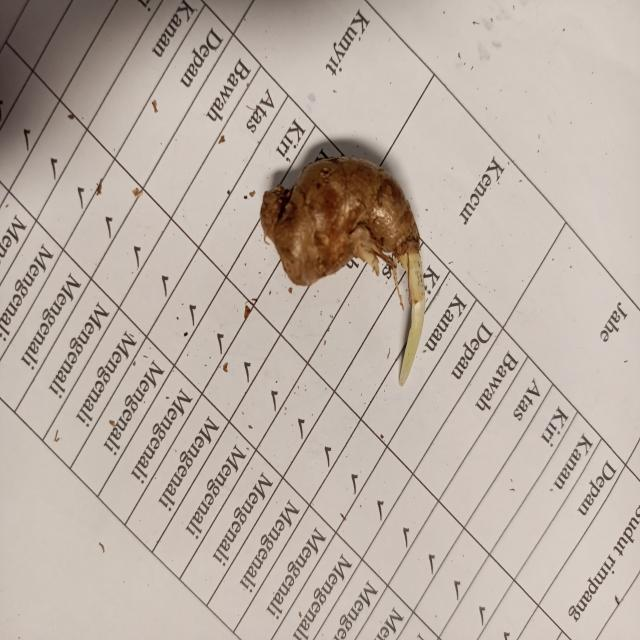ginger: (266, 154, 414, 286)
